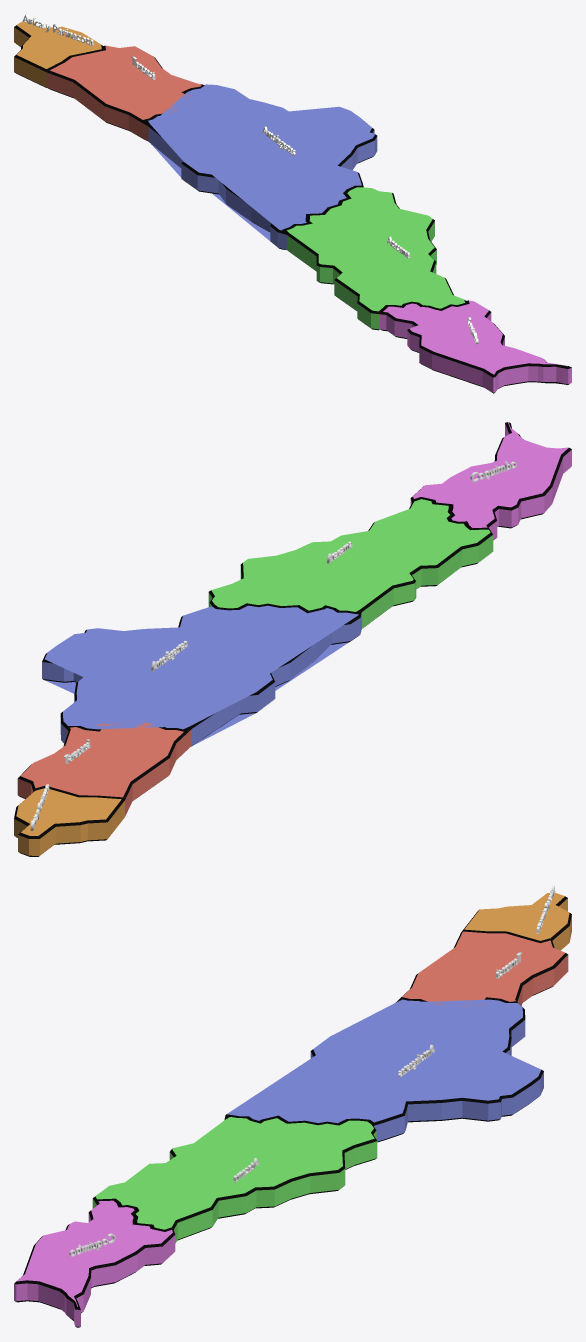
File: zona  nort.fbx
The picture shows the model from 3 angles, top to bottom: view 1: azimuth 30°, elevation 25°; view 2: azimuth 150°, elevation 25°; view 3: azimuth 330°, elevation 25°; orthographic projection. The views are drawn at different scales.
Visible parts, largest first — view 1: II Antofagasta, III Atacama, IV Coquimbo, I Tarapaca, XV Arica y parinacota; view 2: II Antofagasta, III Atacama, I Tarapaca, IV Coquimbo, XV Arica y parinacota; view 3: II Antofagasta, III Atacama, IV Coquimbo, I Tarapaca, XV Arica y parinacota.
Boxes of the visible parts, left/top/right/bottom form: II Antofagasta: left=145, top=84, right=377, bottom=249; III Atacama: left=284, top=187, right=466, bottom=330; IV Coquimbo: left=380, top=300, right=571, bottom=393; I Tarapaca: left=46, top=45, right=204, bottom=141; XV Arica y parinacota: left=14, top=21, right=103, bottom=87; II Antofagasta: left=42, top=605, right=361, bottom=746; III Atacama: left=208, top=499, right=493, bottom=628; I Tarapaca: left=17, top=722, right=191, bottom=816; IV Coquimbo: left=410, top=422, right=571, bottom=540; XV Arica y parinacota: left=14, top=788, right=124, bottom=856; II Antofagasta: left=224, top=999, right=543, bottom=1142; III Atacama: left=92, top=1117, right=377, bottom=1243; IV Coquimbo: left=14, top=1200, right=175, bottom=1327; I Tarapaca: left=396, top=931, right=568, bottom=1006; XV Arica y parinacota: left=462, top=893, right=571, bottom=950.
Size of the model in its own units: 44.85 by 6.32 by 193.
